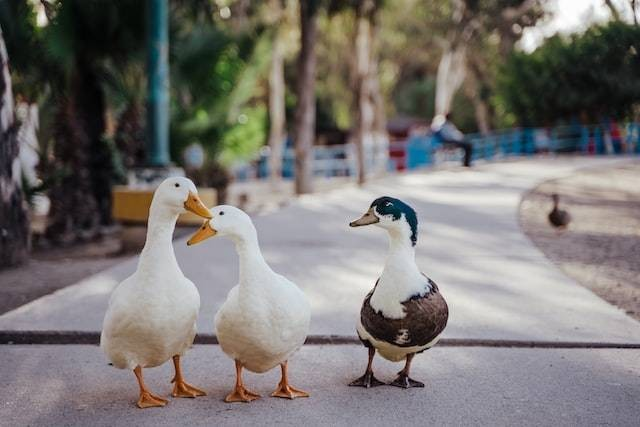bebek: (99, 168, 210, 411), (188, 204, 321, 406), (337, 188, 456, 398)
